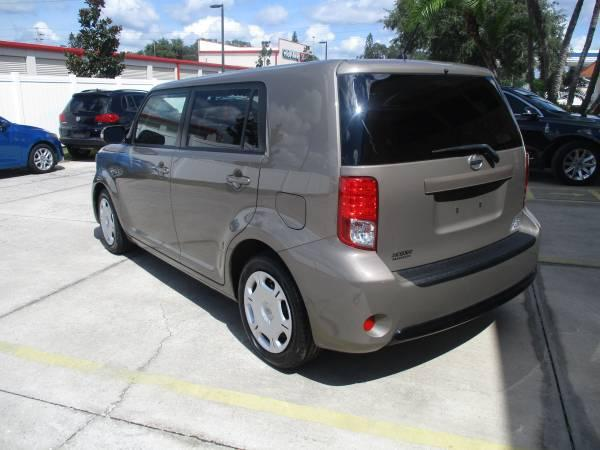Front_Fender: (93, 140, 128, 231)
Front_Left_Door: (114, 143, 176, 266)
Front_Left_Window: (130, 84, 189, 147)
Left_Taillight: (335, 176, 379, 254)
Rear_Bumper: (280, 209, 541, 351)
Rear_Fender: (240, 154, 339, 253)
Rear_Left_Door: (166, 146, 263, 298)
Rear_Left_Window: (173, 81, 265, 155)
Rear_Windshield: (337, 71, 524, 168)
Roof: (122, 57, 493, 162)
Tailgate: (340, 148, 526, 270)
Wheel: (237, 254, 318, 363), (94, 189, 117, 250)
